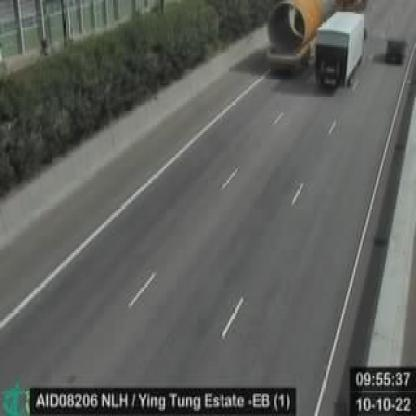Car: (384, 35, 407, 65)
Truck: (271, 0, 336, 74), (315, 7, 365, 90)
